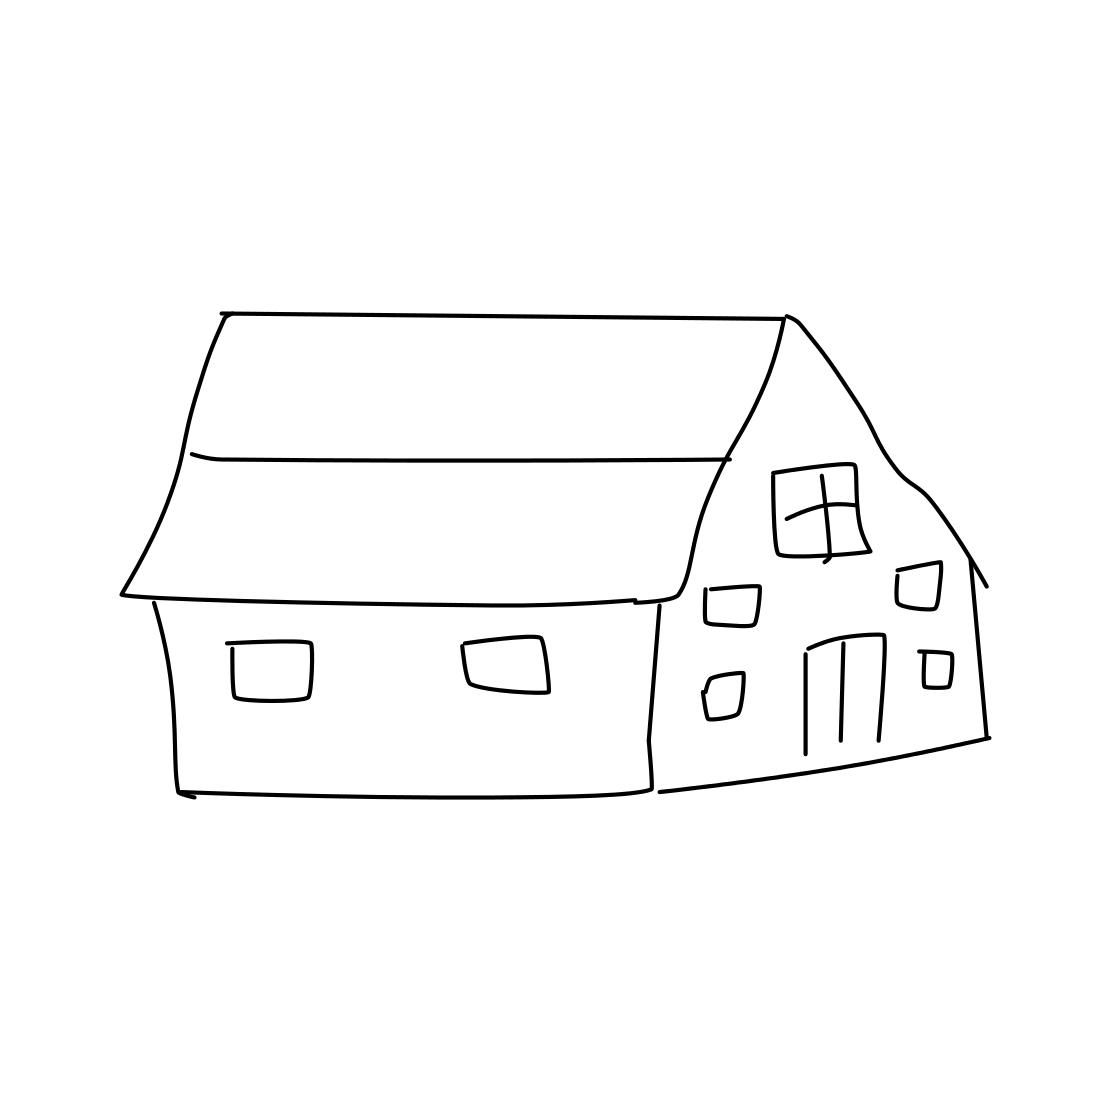House: (103, 264, 1030, 825)
